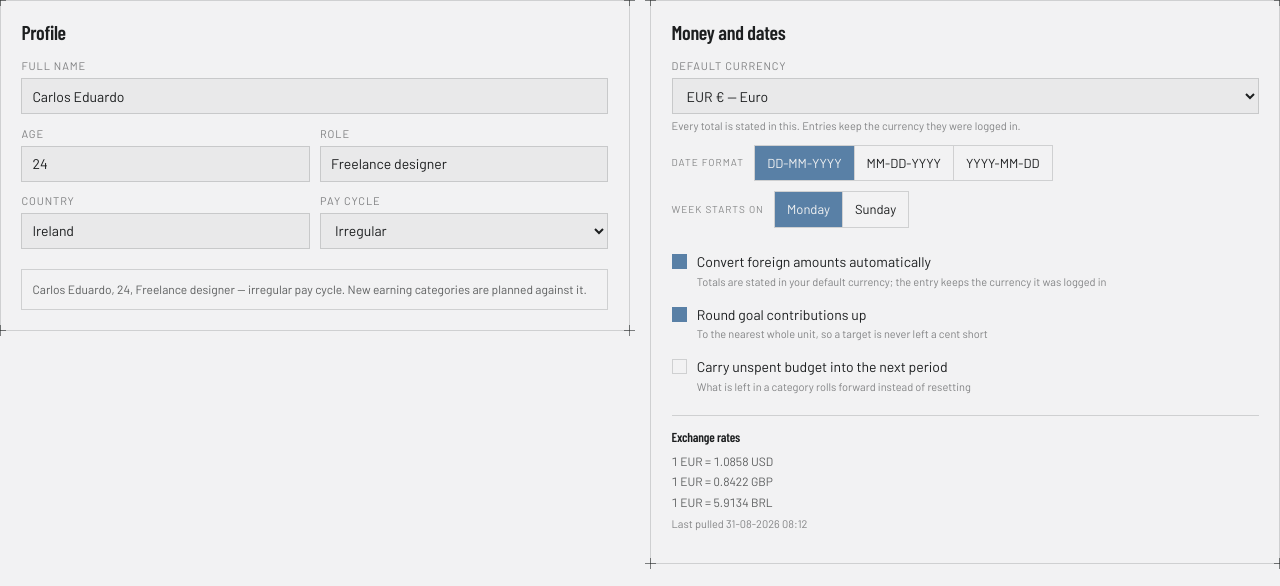
SettingsPage - money and dates (BR-8) › states the rate stamp in the chosen date format
Click the radio button labelled "YYYY-MM-DD" at (1002, 163), box [953,146,1052,180]
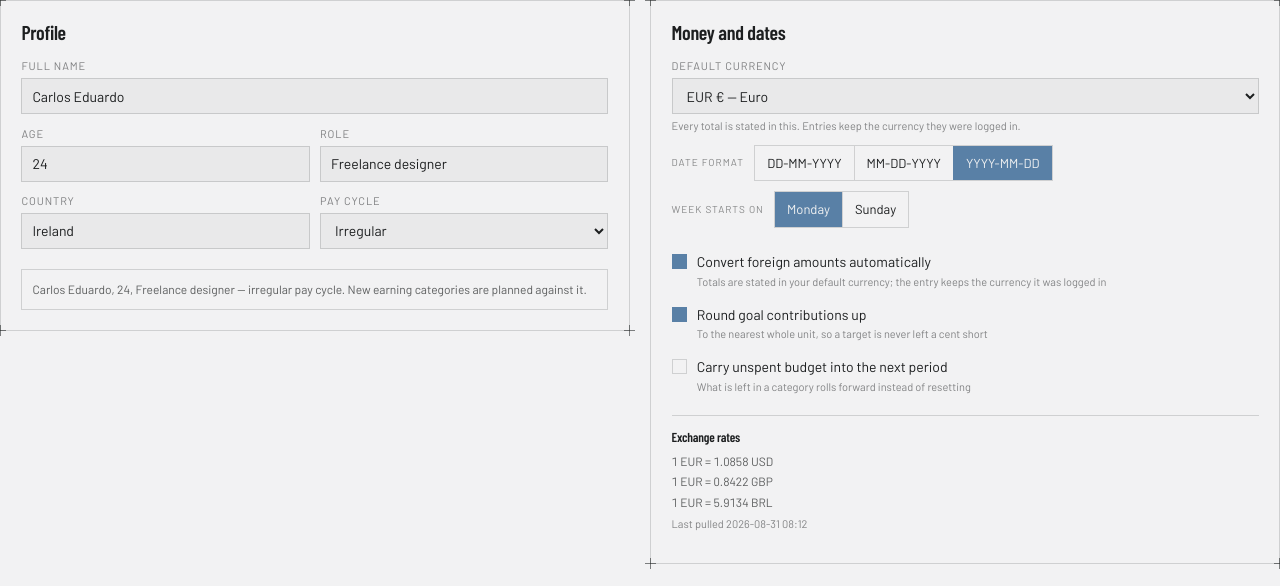
Result: the text "Last pulled 2026-08-31 08:12" is shown at [672,517,807,530]
